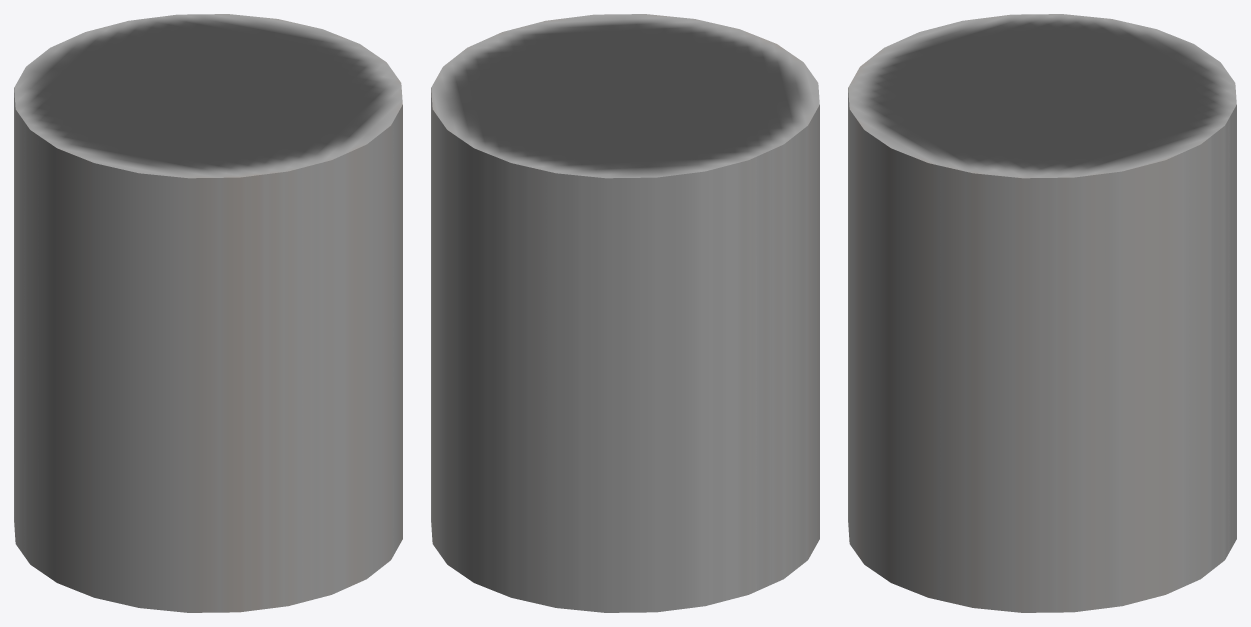
The model's file is HZWaterTower.dae.
3 views of the same model, side by side, from view 1: azimuth 30°, elevation 25°; view 2: azimuth 150°, elevation 25°; view 3: azimuth 270°, elevation 25° (orthographic).
Visible parts, largest first — view 1: SketchUp; view 2: SketchUp; view 3: SketchUp.
Part boxes in pixels (x1,y1,x2,y2): SketchUp: [14, 14, 402, 612]; SketchUp: [431, 14, 819, 612]; SketchUp: [848, 14, 1236, 612].
Size of the model in its own units: 12.56 by 12.56 by 15.5.
